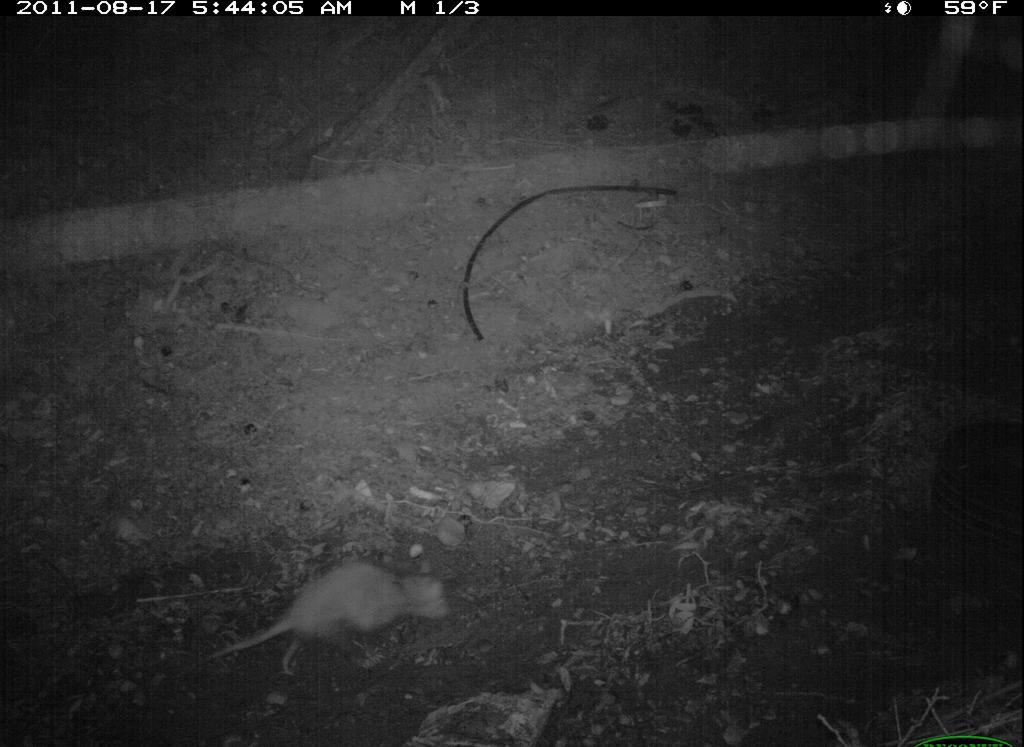opossum: (199, 550, 457, 682)
